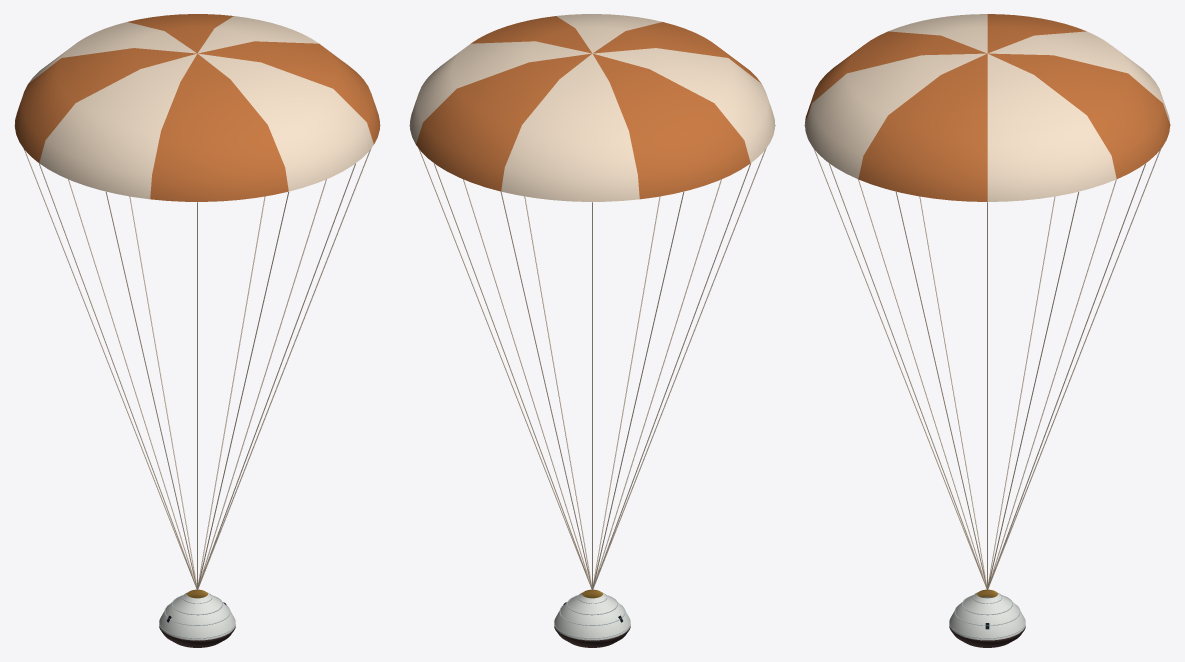
File: curiosity_parachute.glb
3 renders of one model, left to right at view 1: azimuth 30°, elevation 25°; view 2: azimuth 150°, elevation 25°; view 3: azimuth 270°, elevation 25°, orthographic.
Parts seen in each view (by area): view 1: curiosity_spacecraft.mars_parachute.main_01.mesh_Parachute_c, curiosity_spacecraft.mars_parachute.main_01.mesh_Spray-on_in, curiosity_spacecraft.mars_parachute.mesh_Parachute_canopy_fa, mars_backshell.mesh_Pale_thermal_blanket; view 2: curiosity_spacecraft.mars_parachute.main_01.mesh_Spray-on_in, curiosity_spacecraft.mars_parachute.main_01.mesh_Parachute_c, curiosity_spacecraft.mars_parachute.mesh_Parachute_canopy_fa, mars_backshell.mesh_Pale_thermal_blanket; view 3: curiosity_spacecraft.mars_parachute.main_01.mesh_Parachute_c, curiosity_spacecraft.mars_parachute.main_01.mesh_Spray-on_in, curiosity_spacecraft.mars_parachute.mesh_Parachute_canopy_fa, mars_backshell.mesh_Pale_thermal_blanket.
Part boxes in pixels (x1,y1,x2,y2): curiosity_spacecraft.mars_parachute.main_01.mesh_Parachute_c: (28, 16, 373, 199); curiosity_spacecraft.mars_parachute.main_01.mesh_Spray-on_in: (15, 14, 379, 201); curiosity_spacecraft.mars_parachute.mesh_Parachute_canopy_fa: (14, 124, 380, 590); mars_backshell.mesh_Pale_thermal_blanket: (159, 592, 235, 640); curiosity_spacecraft.mars_parachute.main_01.mesh_Spray-on_in: (416, 16, 761, 199); curiosity_spacecraft.mars_parachute.main_01.mesh_Parachute_c: (410, 14, 774, 201); curiosity_spacecraft.mars_parachute.mesh_Parachute_canopy_fa: (409, 124, 775, 590); mars_backshell.mesh_Pale_thermal_blanket: (554, 592, 630, 640); curiosity_spacecraft.mars_parachute.main_01.mesh_Parachute_c: (805, 14, 1169, 201); curiosity_spacecraft.mars_parachute.main_01.mesh_Spray-on_in: (805, 14, 1170, 201); curiosity_spacecraft.mars_parachute.mesh_Parachute_canopy_fa: (804, 125, 1170, 590); mars_backshell.mesh_Pale_thermal_blanket: (949, 592, 1025, 640).
Size of the model in its own units: 21.56 by 38.11 by 21.55.
